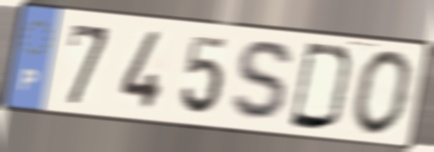4: (117, 29, 164, 114)
5: (175, 34, 233, 117)
7: (64, 20, 113, 107)
D: (286, 39, 357, 134)
O: (350, 47, 417, 139)
S: (227, 37, 298, 126)
